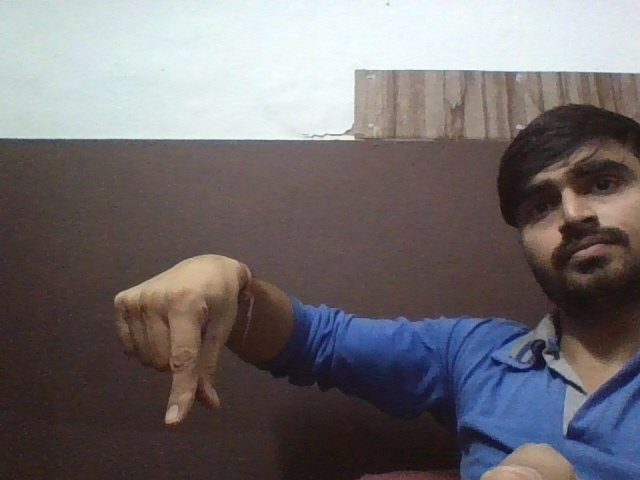Q: (102, 256, 250, 440)
